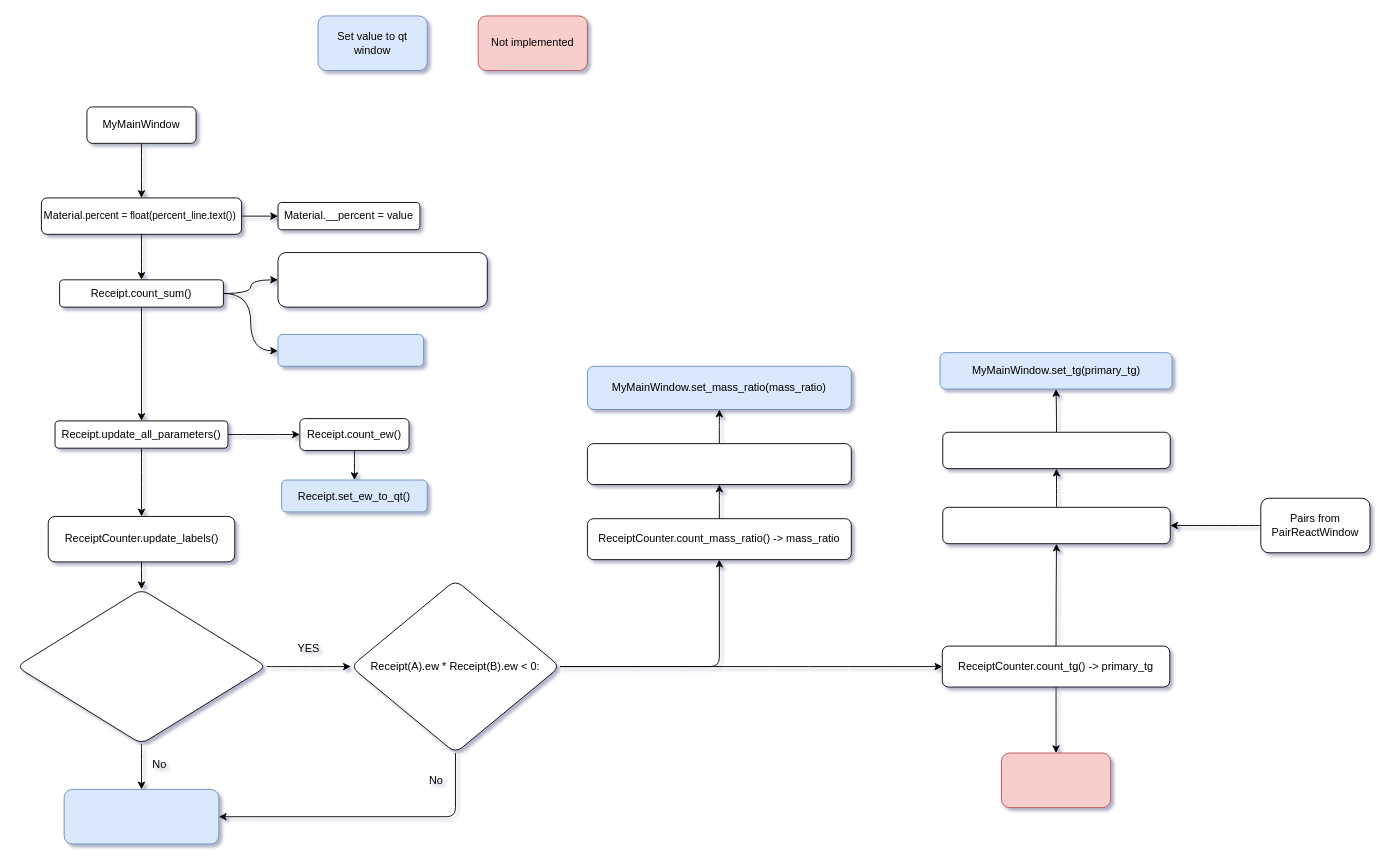
Image size: 1391x865. Some labels were removed from this diagram. The centre of each missing label's shape, as x and y in pixels:
"Count_tg_influence" goes at pixel 1056 780.
"Receipt(A). sum_percent == 100 and Receipt(B).sum_percent == 100" goes at pixel 141 666.
"Receipt.set_sum_to_qt()" goes at pixel 350 350.
"Receipt.sum_percent = round(sum(Receipt.materials), 2)" goes at pixel 382 279.
"ReceiptCounter. drop_labels()" goes at pixel 141 816.
"ReceiptCounter.count_percent_df()" goes at pixel 1056 525.
"ReceiptCounter.mass_ratio = mass_ratio" goes at pixel 718 464.
"ReceiptCounter.tg = primary_tg" goes at pixel 1056 450.
